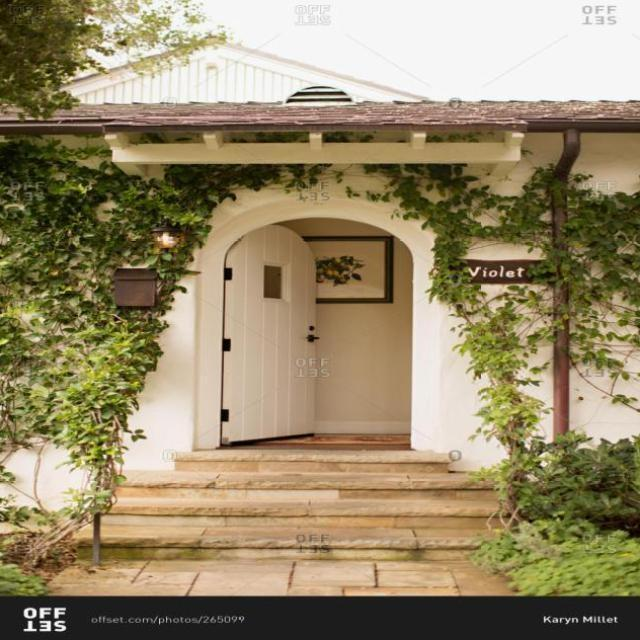door: (219, 223, 316, 446)
